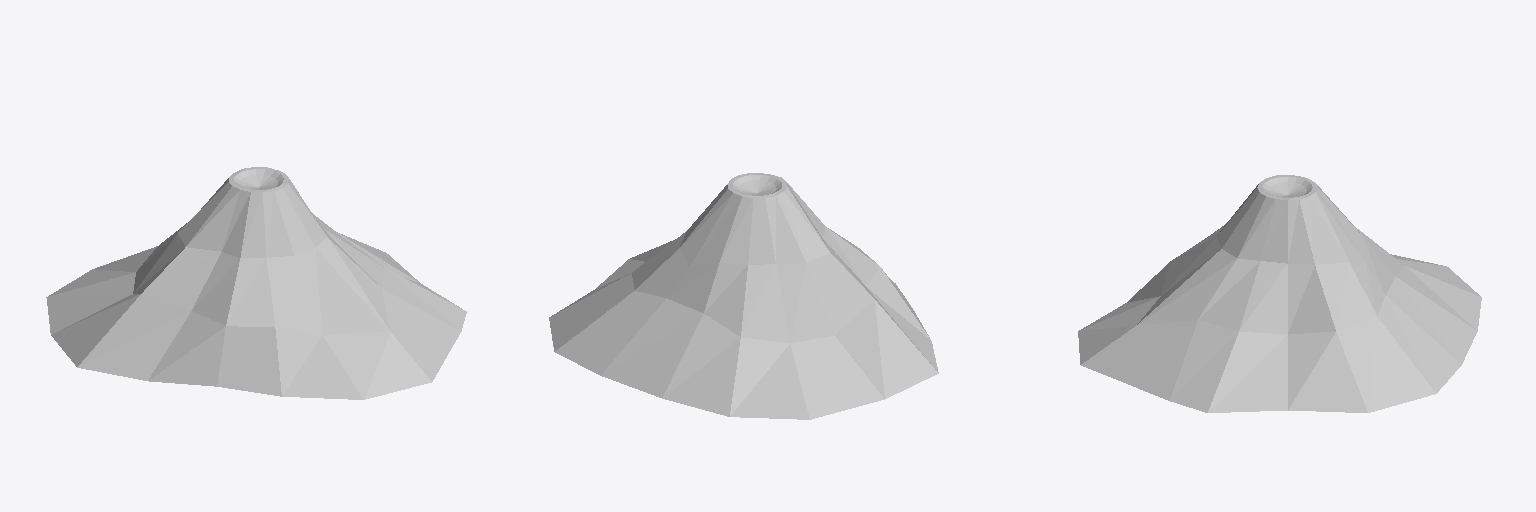
The model's file is TallCrater.obj.
3 views of the same model, side by side, from view 1: azimuth 30°, elevation 25°; view 2: azimuth 150°, elevation 25°; view 3: azimuth 270°, elevation 25° (orthographic).
Parts seen in each view (by area): view 1: pSphere1; view 2: pSphere1; view 3: pSphere1.
Boxes of the visible parts, box(x1,y1,x2,y2) form: pSphere1: box(46, 167, 466, 399); pSphere1: box(549, 173, 938, 419); pSphere1: box(1078, 175, 1481, 412).
Bounding box in the file's own units: 2.11 × 0.8283 × 2.11.